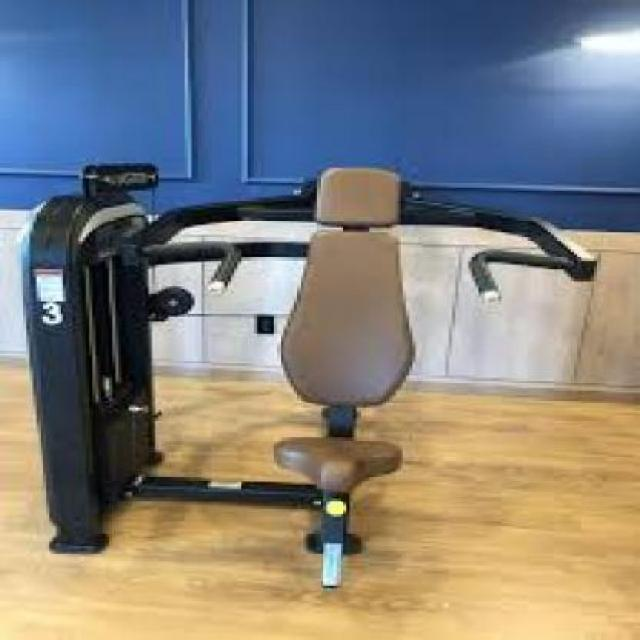shoulder press machine: (11, 134, 612, 595)
